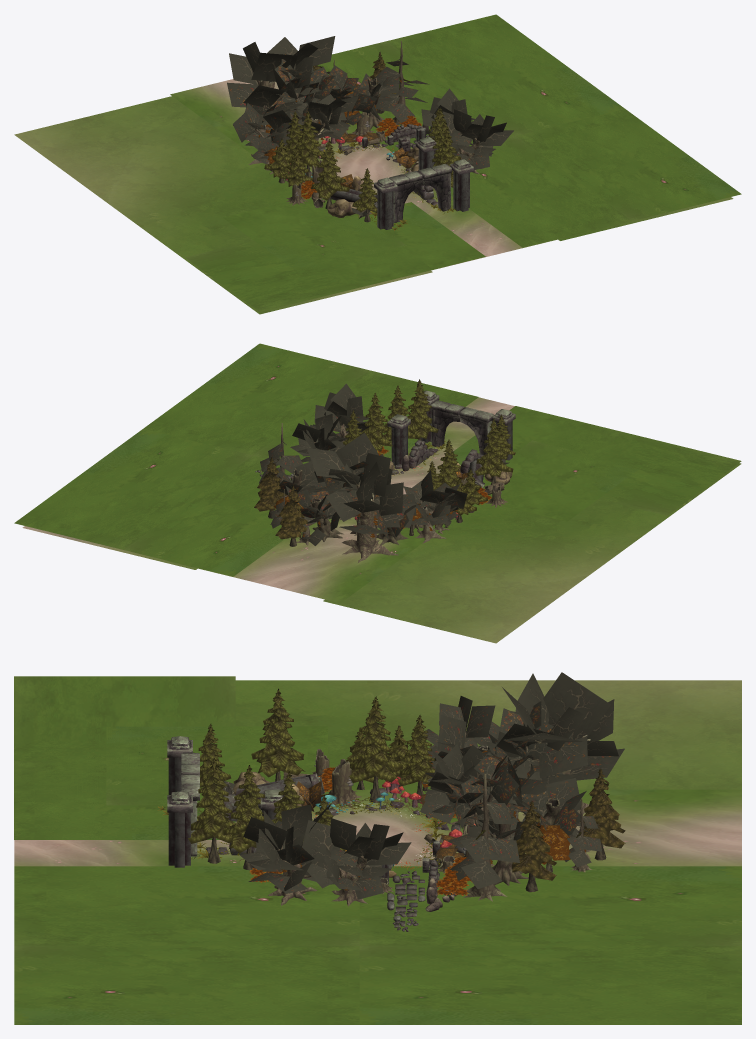
File: changjing_01.fbx
3 views of the same model, one above another, from view 1: azimuth 30°, elevation 25°; view 2: azimuth 150°, elevation 25°; view 3: azimuth 270°, elevation 25° (orthographic). The views are drawn at different scales.
Visible parts, largest first — view 1: dimian1, shu1, shicai1, hua2, shitou1; view 2: dimian1, shu1, shicai1; view 3: dimian1, shu1, shicai1, hua2.
Part boxes in pixels (bbox=[...]): dimian1: bbox=[14, 14, 741, 314]; shu1: bbox=[227, 36, 513, 222]; shicai1: bbox=[301, 124, 473, 229]; hua2: bbox=[301, 115, 456, 230]; shitou1: bbox=[327, 146, 418, 217]; dimian1: bbox=[14, 343, 741, 643]; shu1: bbox=[254, 379, 515, 562]; shicai1: bbox=[255, 390, 515, 488]; dimian1: bbox=[14, 676, 741, 1024]; shu1: bbox=[188, 672, 625, 906]; shicai1: bbox=[167, 736, 465, 931]; hua2: bbox=[157, 767, 472, 895].
Bounding box in the file's own units: 75901 × 15186 × 67010.
